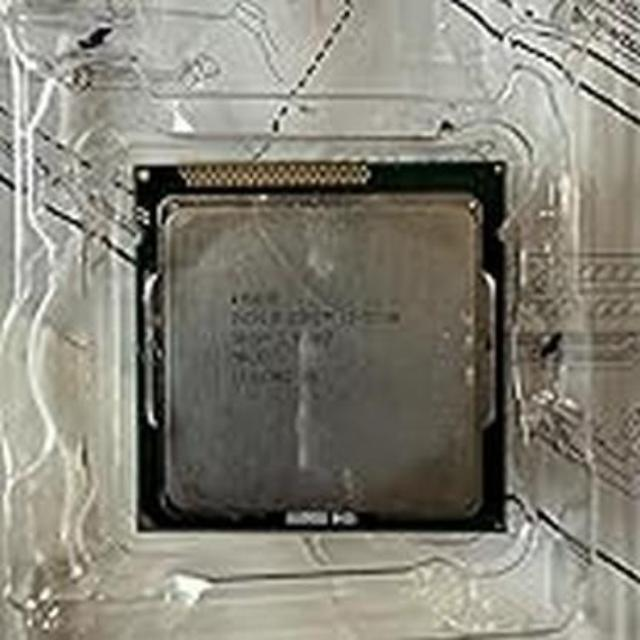CPU: (144, 168, 502, 528)
